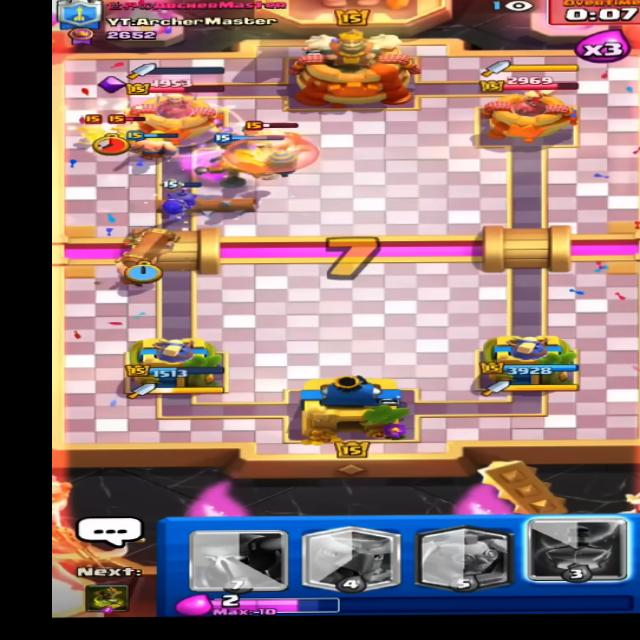Archer: (72, 110, 110, 142), (110, 115, 148, 143)
Knight: (237, 118, 310, 162)
